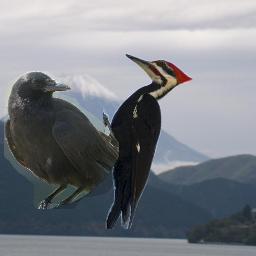Crow: (4, 71, 119, 209)
Woodpecker: (103, 52, 196, 229)
